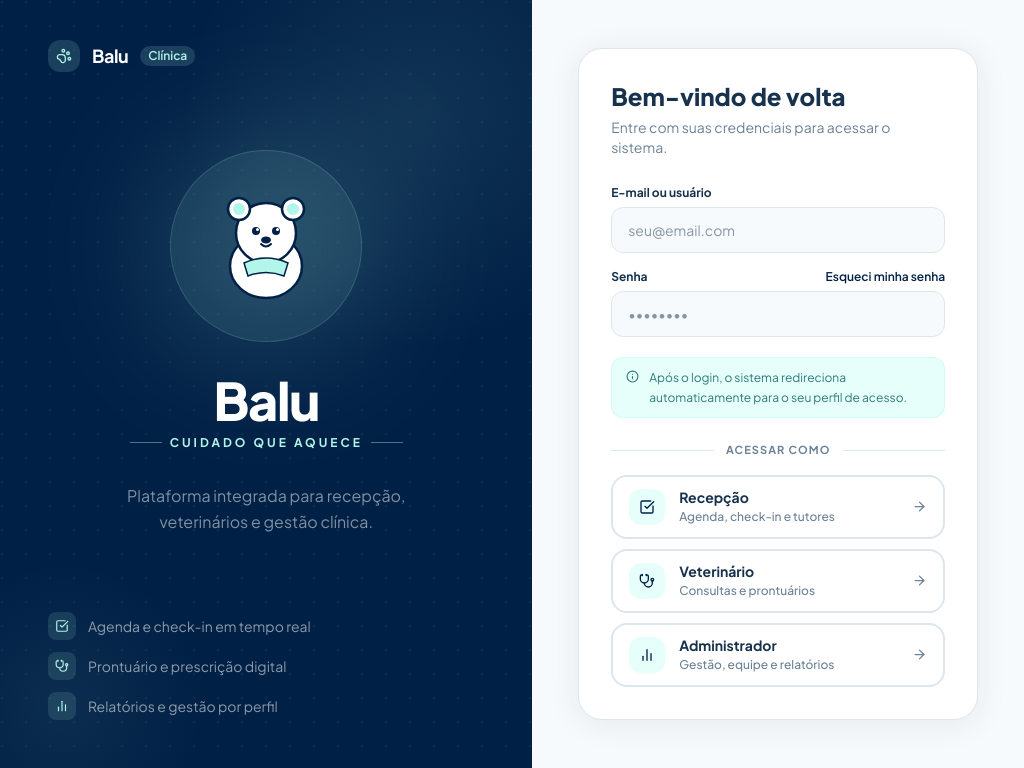
impede o acesso simulado quando as credenciais estão vazias
Click the button "Recepção Agenda, check-in e tutores" at {"x": 778, "y": 507}, box top-left (611, 475), bottom-right (945, 539)
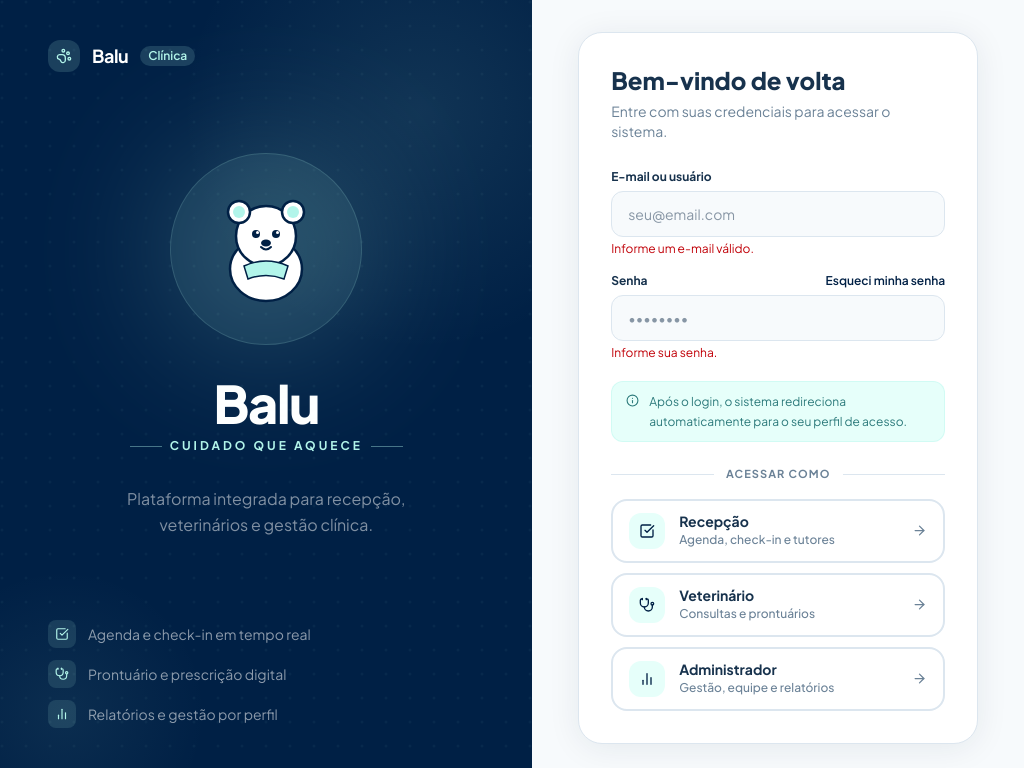
Expected: the text "Informe um e-mail válido." is shown, top-left (611, 241), bottom-right (754, 256)
Expected: the text "Informe sua senha." is shown, top-left (611, 345), bottom-right (717, 360)
